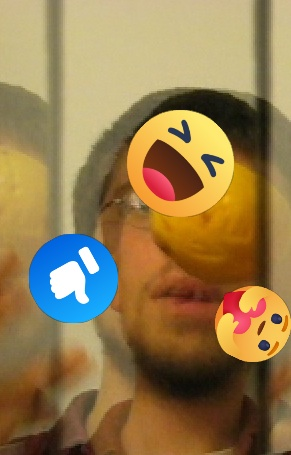care: (215, 286, 291, 362)
haha: (127, 110, 234, 217)
like: (29, 234, 118, 323)
